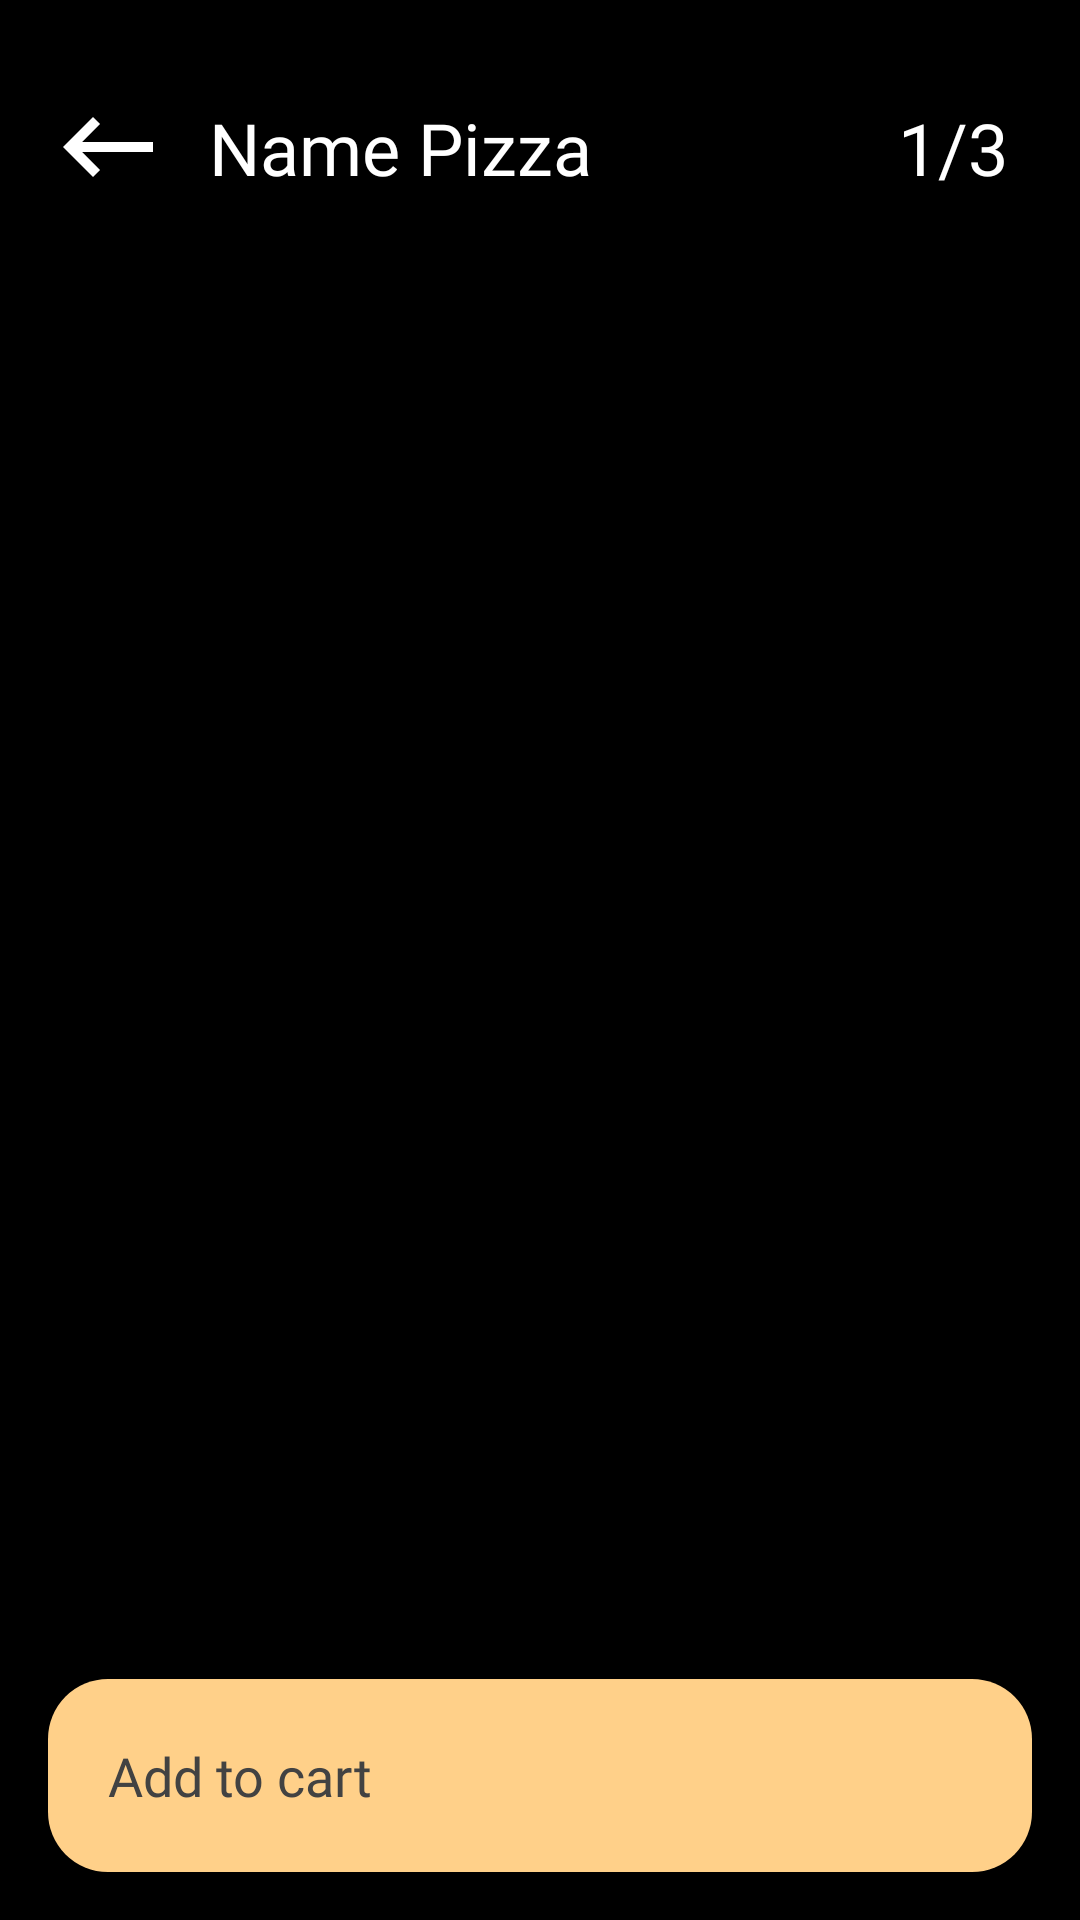

Where to tap for icons on this 1080x1920 app screen, as (x=x, y=y):
keyboard backspace: (x=108, y=147)
